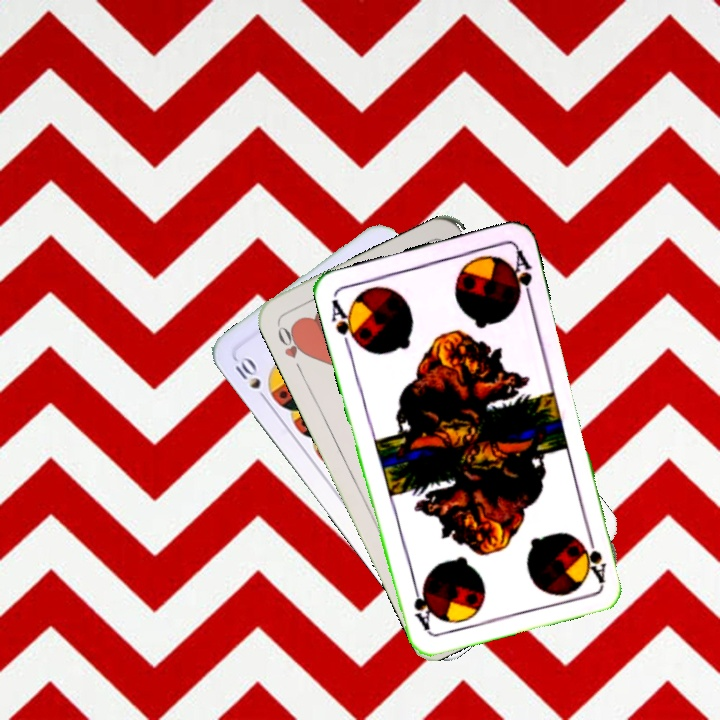HO: (273, 320, 310, 376)
S10: (230, 351, 271, 406)
SA: (327, 295, 362, 352), (578, 527, 609, 585)
